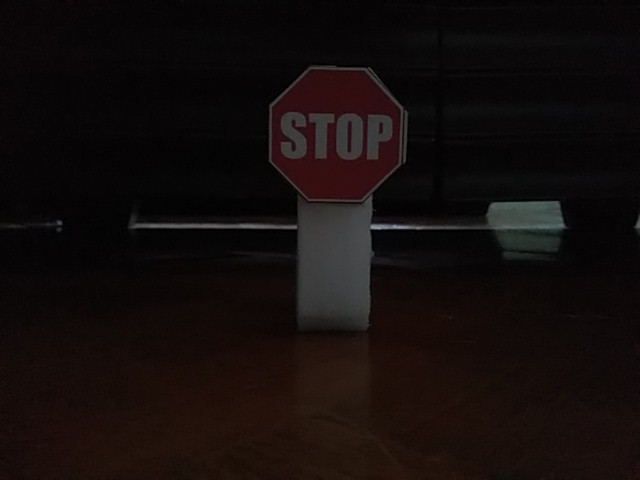Stop Sign: (269, 66, 407, 205)
